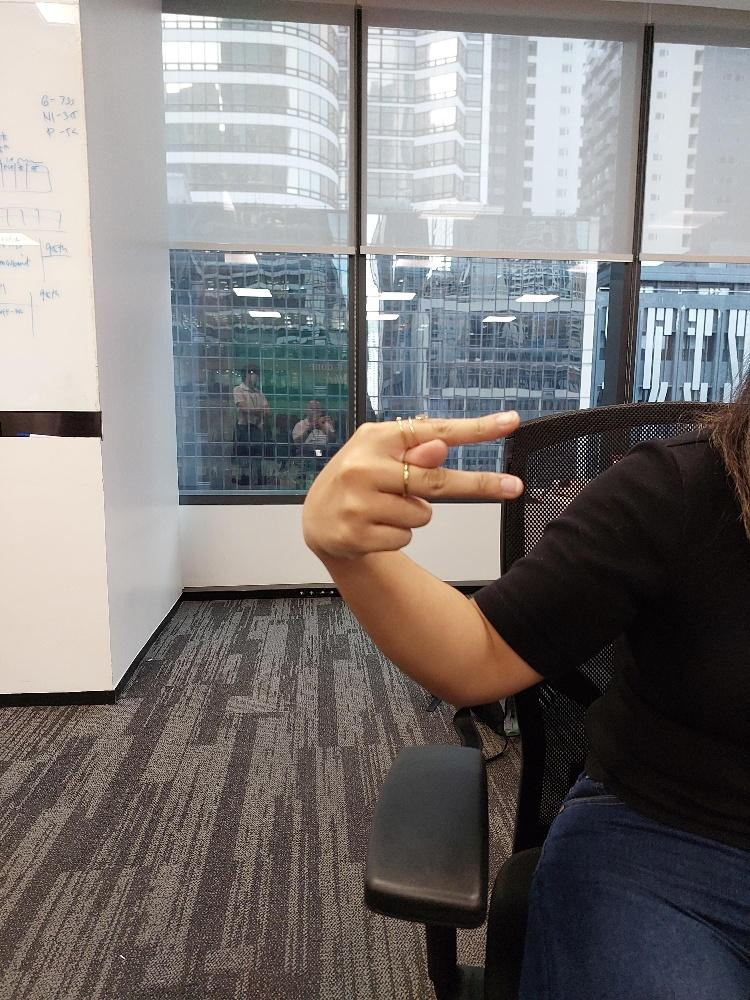k: (300, 405, 528, 559)
